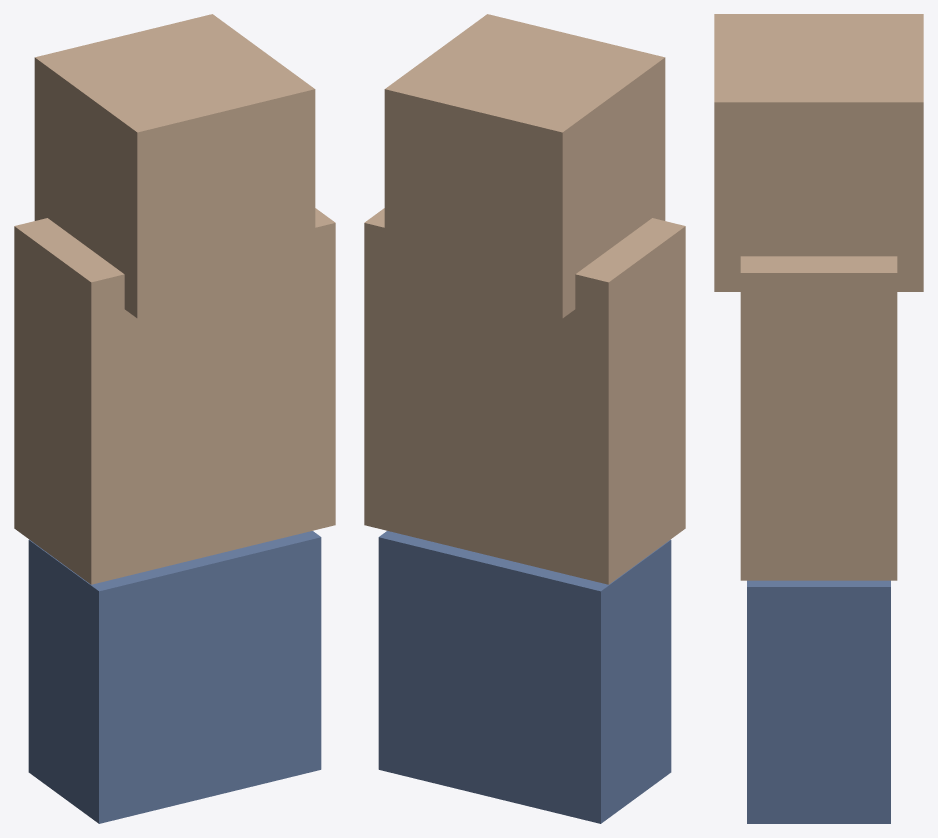
File: avatar-ref.fbx
The picture shows the model from 3 angles, left to right: view 1: azimuth 30°, elevation 25°; view 2: azimuth 150°, elevation 25°; view 3: azimuth 270°, elevation 25°; orthographic projection.
Visible parts, largest first — view 1: avatar-ref; view 2: avatar-ref; view 3: avatar-ref.
Part boxes in pixels (box(x1,y1,x2,y2)): avatar-ref: box(14, 14, 335, 823); avatar-ref: box(364, 14, 685, 823); avatar-ref: box(714, 14, 923, 823).
Size of the model in its own units: 2.2 by 6 by 1.6.
